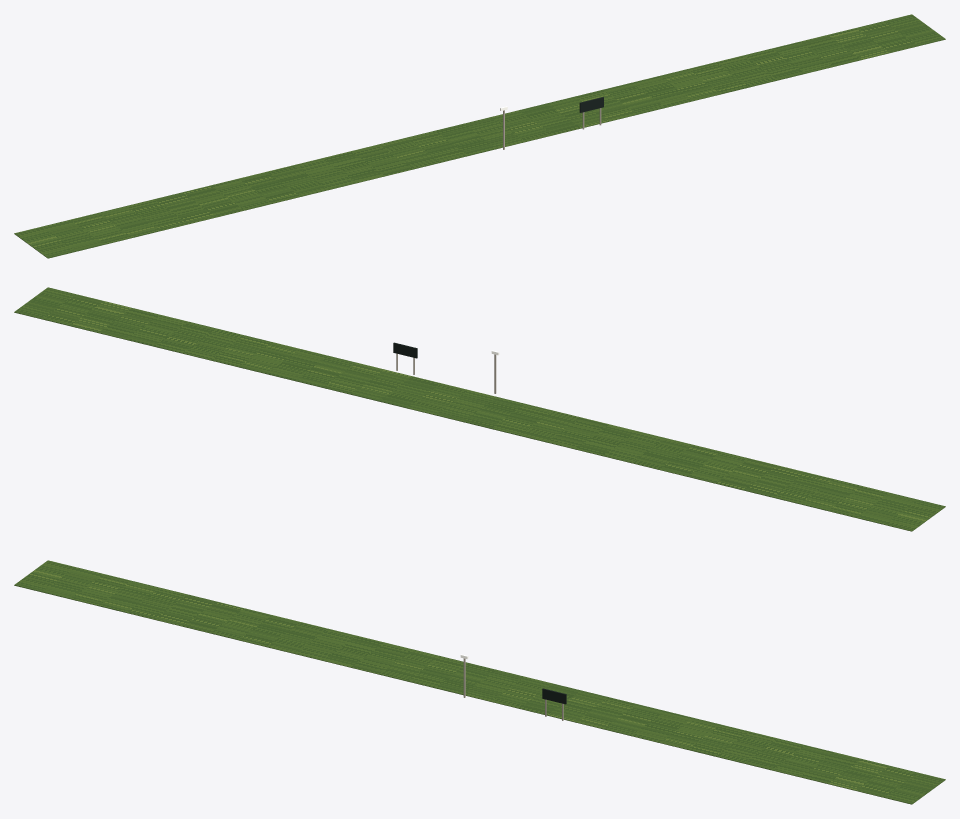
File: structure.glb
3 views of the same model, one above another, from view 1: azimuth 30°, elevation 25°; view 2: azimuth 150°, elevation 25°; view 3: azimuth 330°, elevation 25° (orthographic).
Visible parts, largest first — view 1: Box1; view 2: Box1; view 3: Box1.
Part boxes in pixels (bbox=[...]): Box1: bbox=[14, 14, 945, 258]; Box1: bbox=[14, 287, 945, 531]; Box1: bbox=[14, 560, 945, 804].
Size of the model in its own units: 212 by 9.62 by 15.18.
4 materials, 1 textured.
